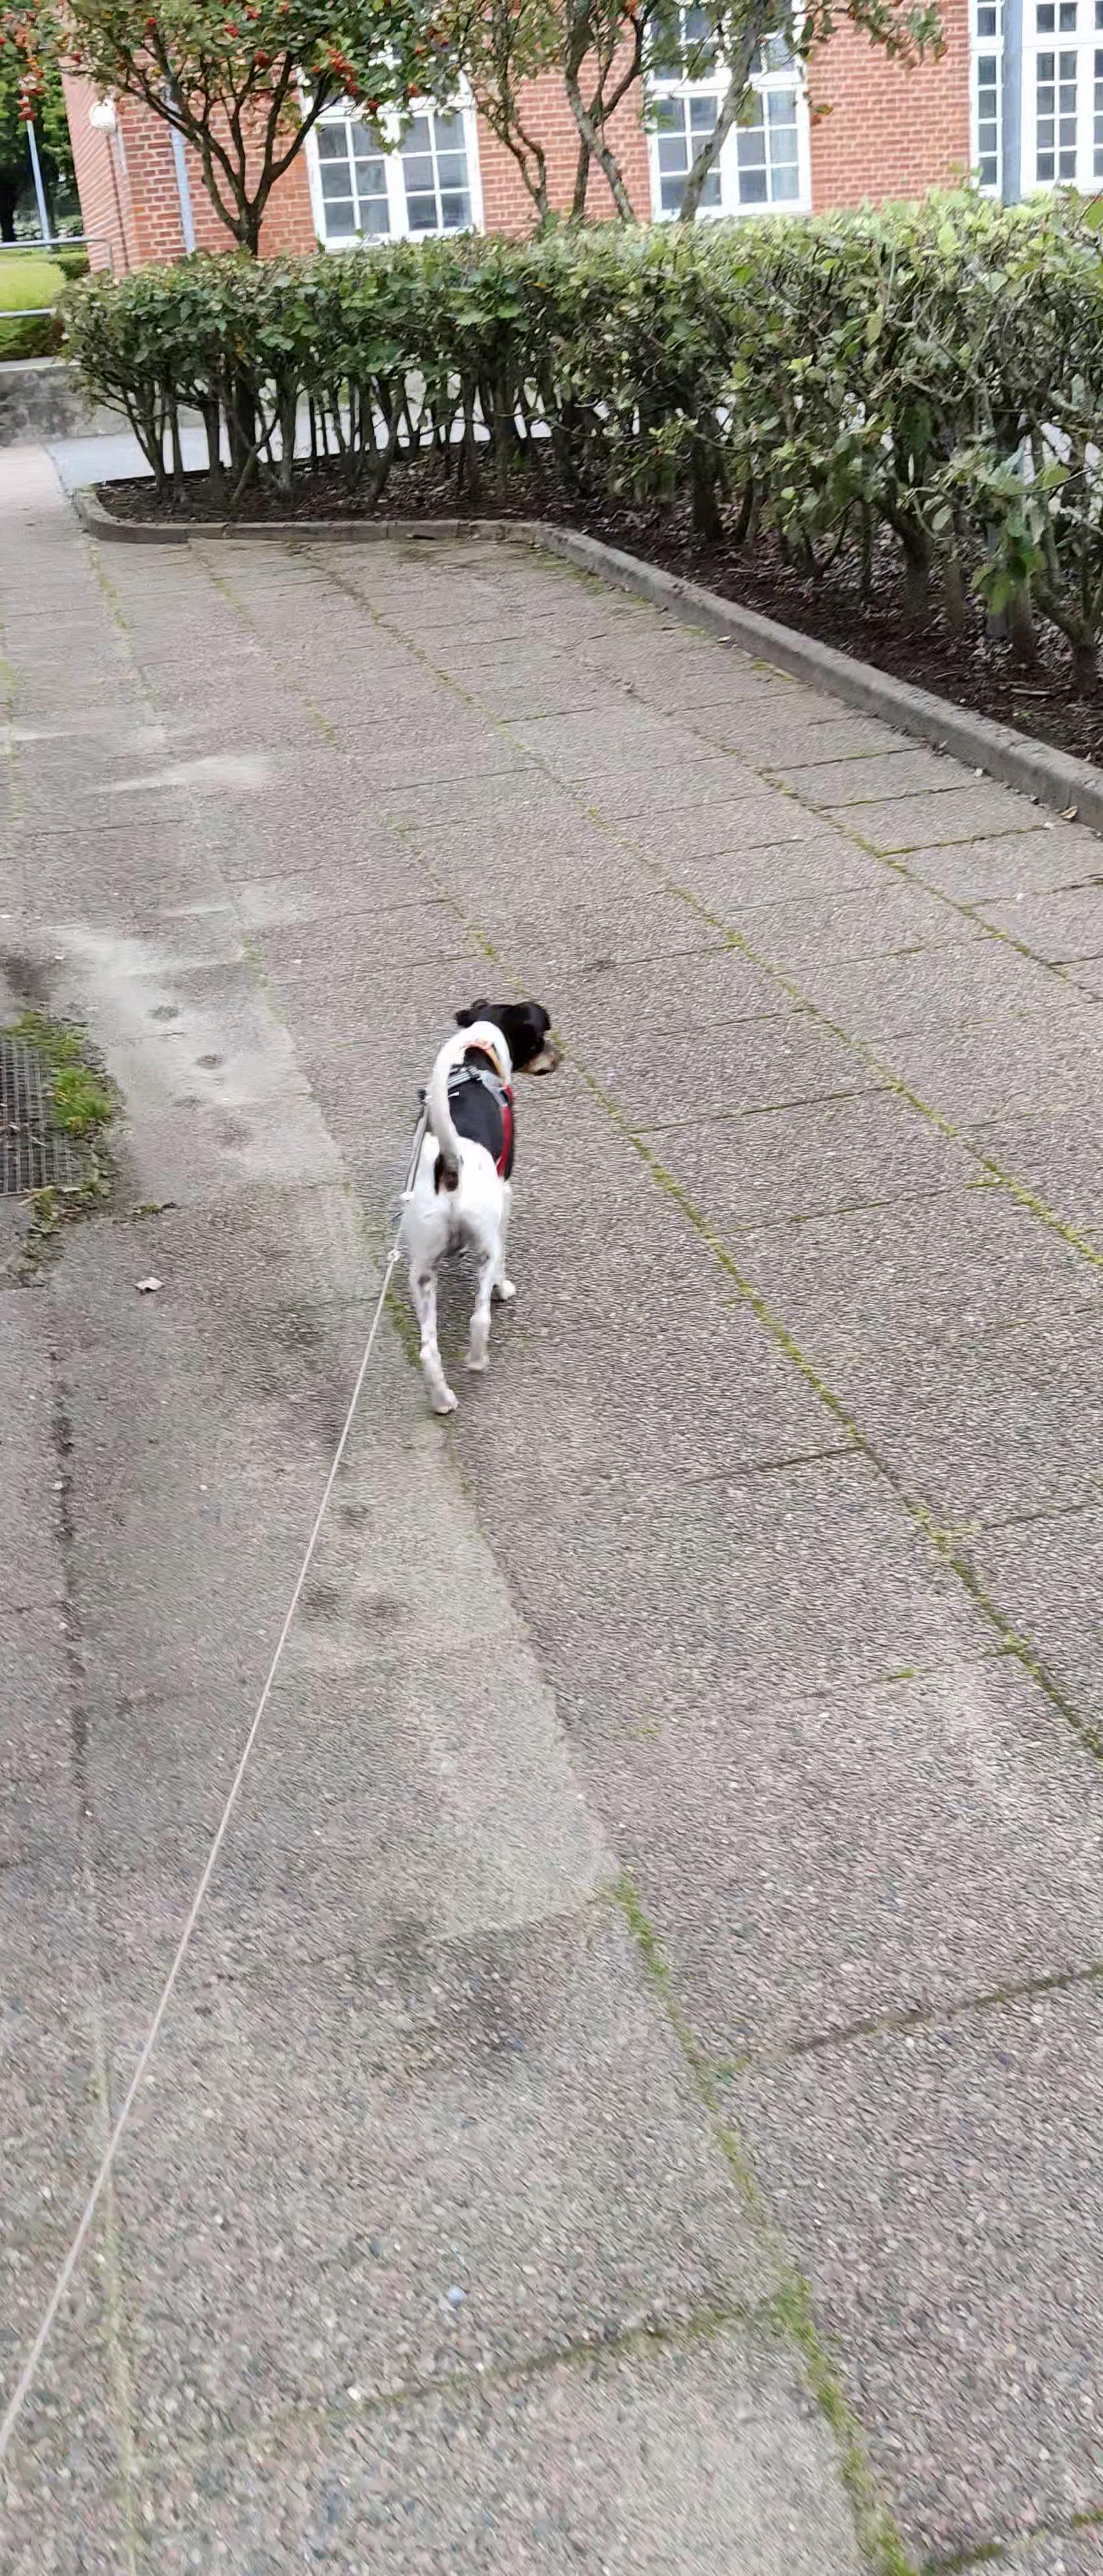Dog: (393, 996, 569, 1423)
